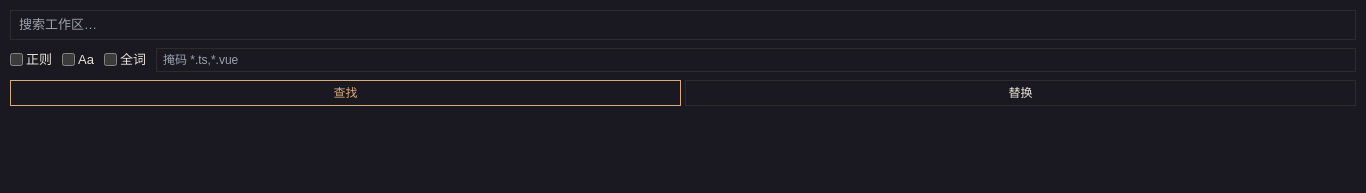
SearchPanel 搜索模式 › 空查询清空结果
The image size is (1366, 193).
Type "foo" into the field with class "search-input". click: {"x": 683, "y": 25}
box: [10,10,1356,40]
Wait 300 ms
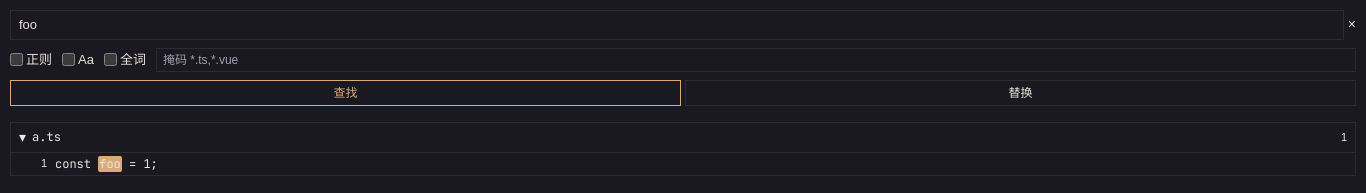
Now the text "a.ts" is shown, box [32,129,61,145]
Clear the field with class "search-input". click: {"x": 677, "y": 25}
box: [10,10,1344,40]
Wait 300 ms
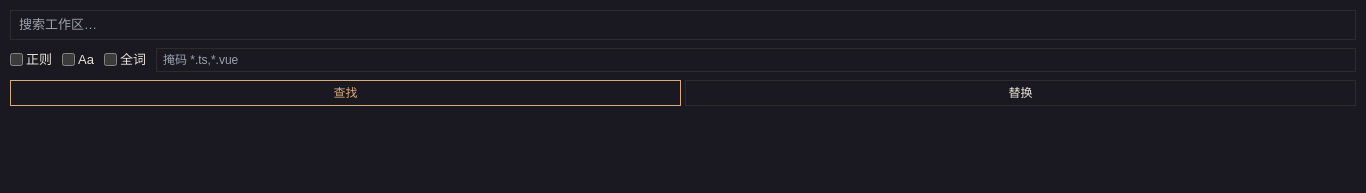
Now the text "a.ts" is gone
